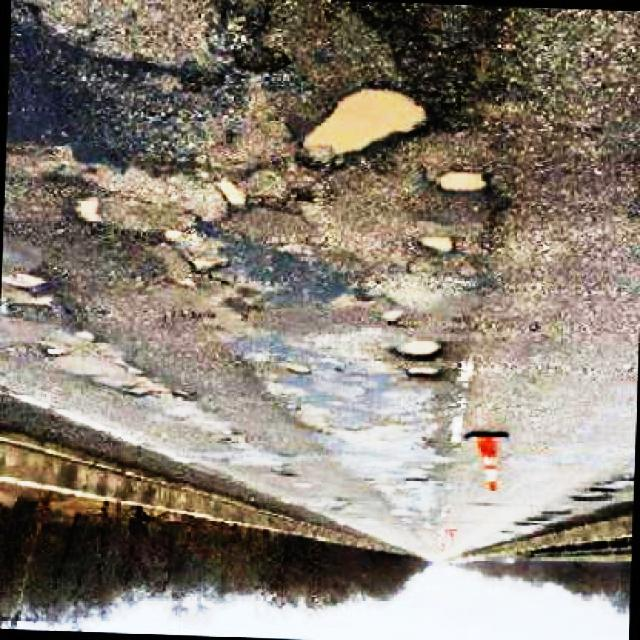pothole: (294, 76, 431, 170), (5, 260, 60, 308), (396, 331, 446, 377), (437, 166, 503, 197), (72, 186, 105, 232), (420, 229, 460, 260)
